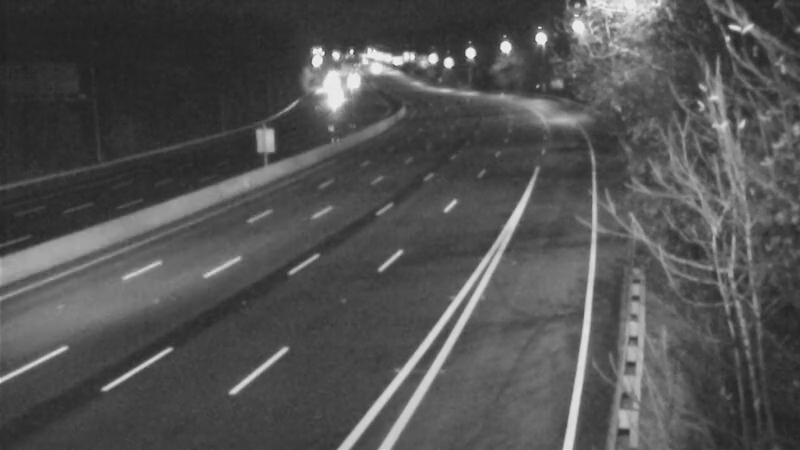vehicle: (313, 76, 363, 126)
